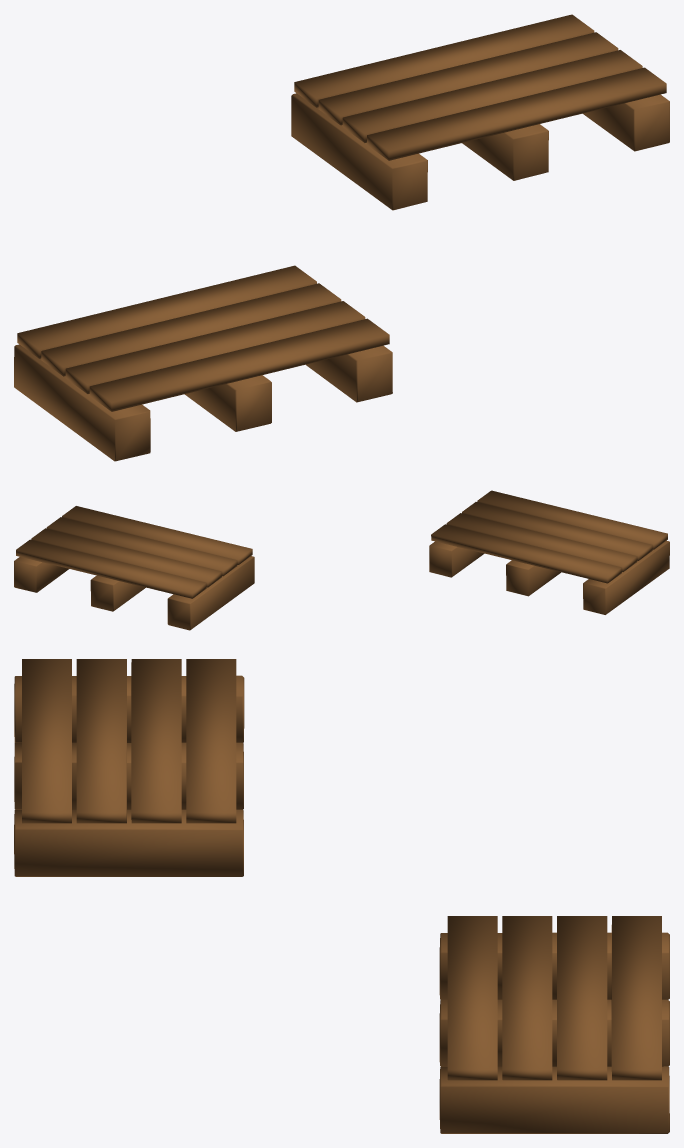
The model's file is ke_lon.glb.
3 renders of one model, top to bottom at view 1: azimuth 30°, elevation 25°; view 2: azimuth 150°, elevation 25°; view 3: azimuth 270°, elevation 25°, orthographic. The views are drawn at different scales.
Visible parts, largest first — view 1: ke_lon; view 2: ke_lon; view 3: ke_lon.
Part boxes in pixels (x1=…): ke_lon: x1=14, y1=14, x2=669, y2=461; ke_lon: x1=14, y1=490, x2=669, y2=630; ke_lon: x1=14, y1=659, x2=669, y2=1133.
Size of the model in its own units: 1.6 by 0.1181 by 1.08.
